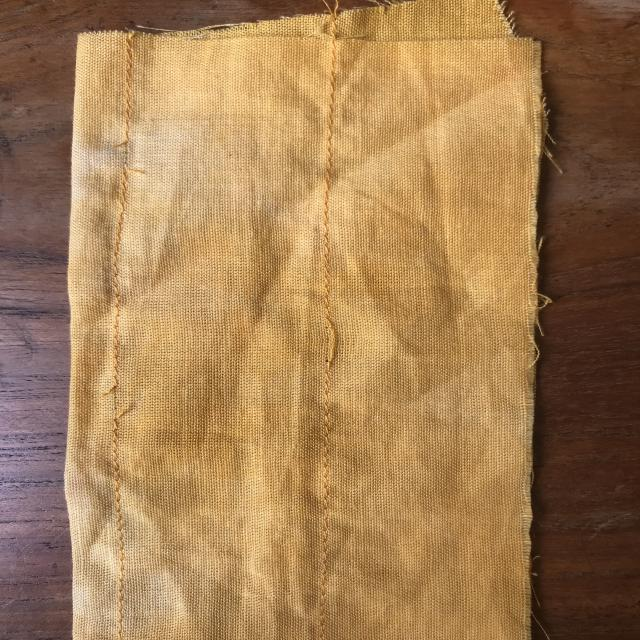broken: (101, 121, 152, 199), (92, 369, 144, 436)
skip: (300, 298, 362, 390)
